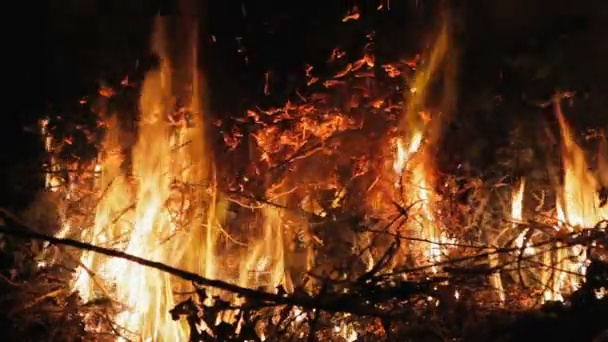fire: (35, 61, 219, 342), (235, 212, 287, 293), (559, 139, 603, 227), (394, 132, 432, 227), (541, 239, 583, 302), (509, 185, 524, 220)
